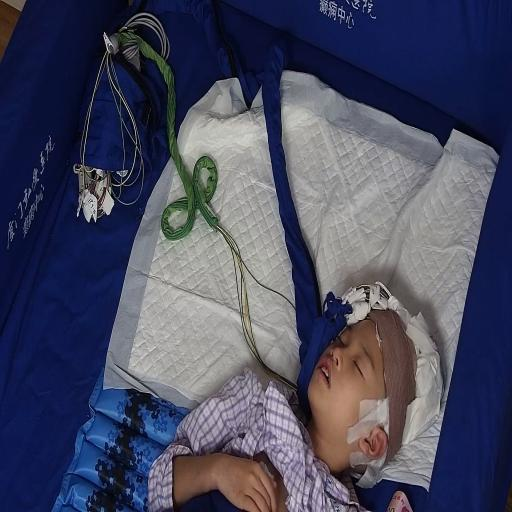Netural: (311, 283, 426, 451)
